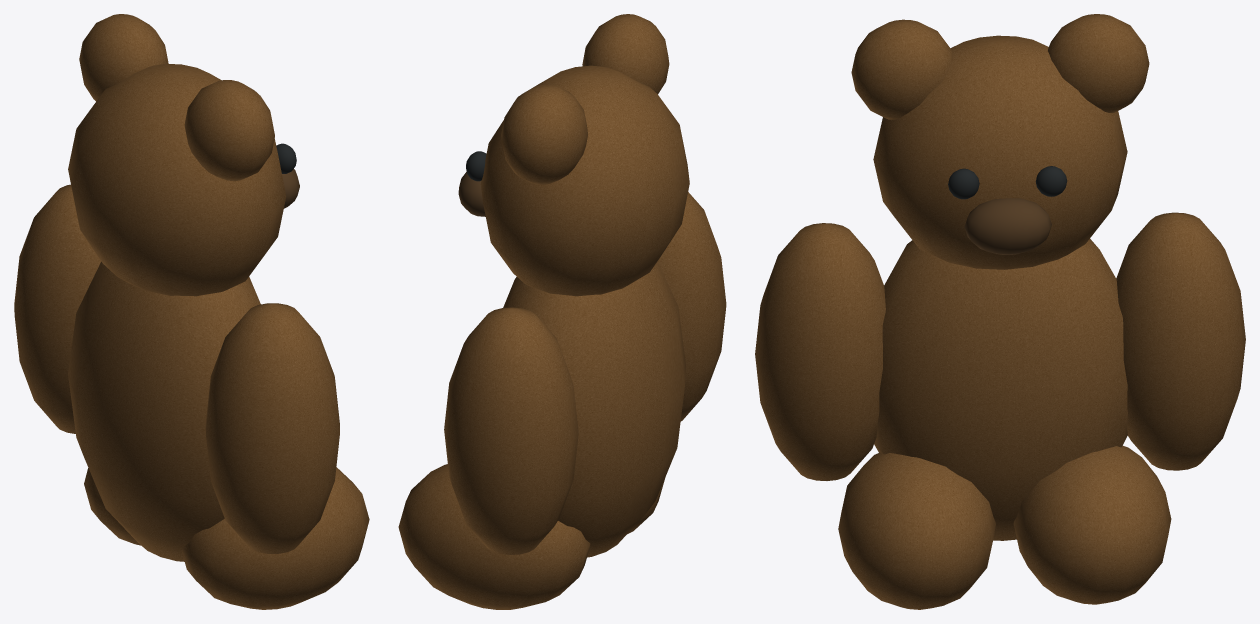
Rendered from SM_TeddyPrize_41c017bde5.fbx.
3 views of the same model, side by side, from view 1: azimuth 30°, elevation 25°; view 2: azimuth 150°, elevation 25°; view 3: azimuth 270°, elevation 25° (orthographic). The views are drawn at different scales.
Parts seen in each view (by area): view 1: SM_TeddyPrize_41c017bde5; view 2: SM_TeddyPrize_41c017bde5; view 3: SM_TeddyPrize_41c017bde5.
Part boxes in pixels (x1=…): SM_TeddyPrize_41c017bde5: x1=14, y1=14, x2=369, y2=609; SM_TeddyPrize_41c017bde5: x1=398, y1=14, x2=726, y2=609; SM_TeddyPrize_41c017bde5: x1=755, y1=14, x2=1245, y2=609.
Size of what is drawn, in the model's own units: 29.25 by 51.67 by 63.82.
3 materials, 1 textured.
